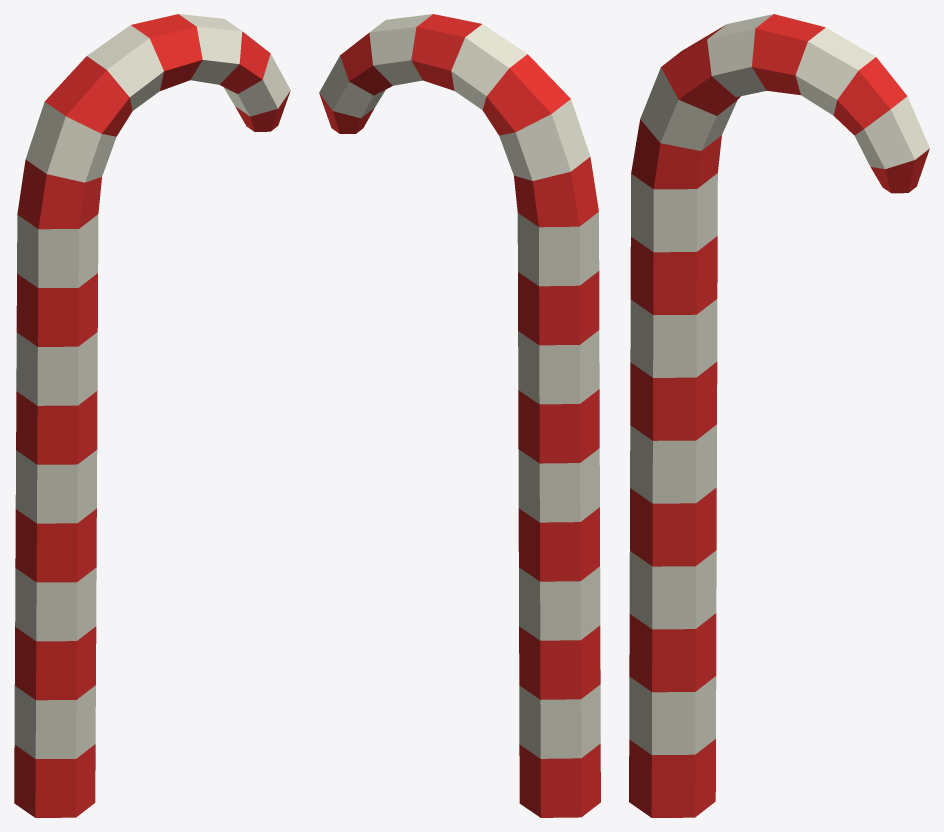
File: Candycane_simple.fbx
3 views of the same model, side by side, from view 1: azimuth 30°, elevation 25°; view 2: azimuth 150°, elevation 25°; view 3: azimuth 330°, elevation 25° (orthographic). The views are drawn at different scales.
Visible parts, largest first — view 1: Candycane_simple; view 2: Candycane_simple; view 3: Candycane_simple.
Boxes of the visible parts, box(x1,y1,x2,y2) form: Candycane_simple: box(14, 14, 290, 817); Candycane_simple: box(319, 14, 600, 817); Candycane_simple: box(629, 14, 929, 817).
Size of the model in its own units: 0.0634 by 0.1766 by 0.0172.
